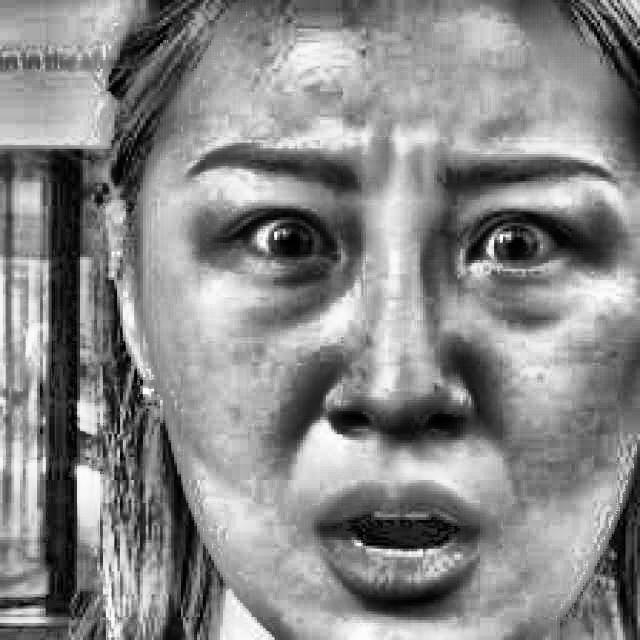fear: (134, 107, 639, 640)
